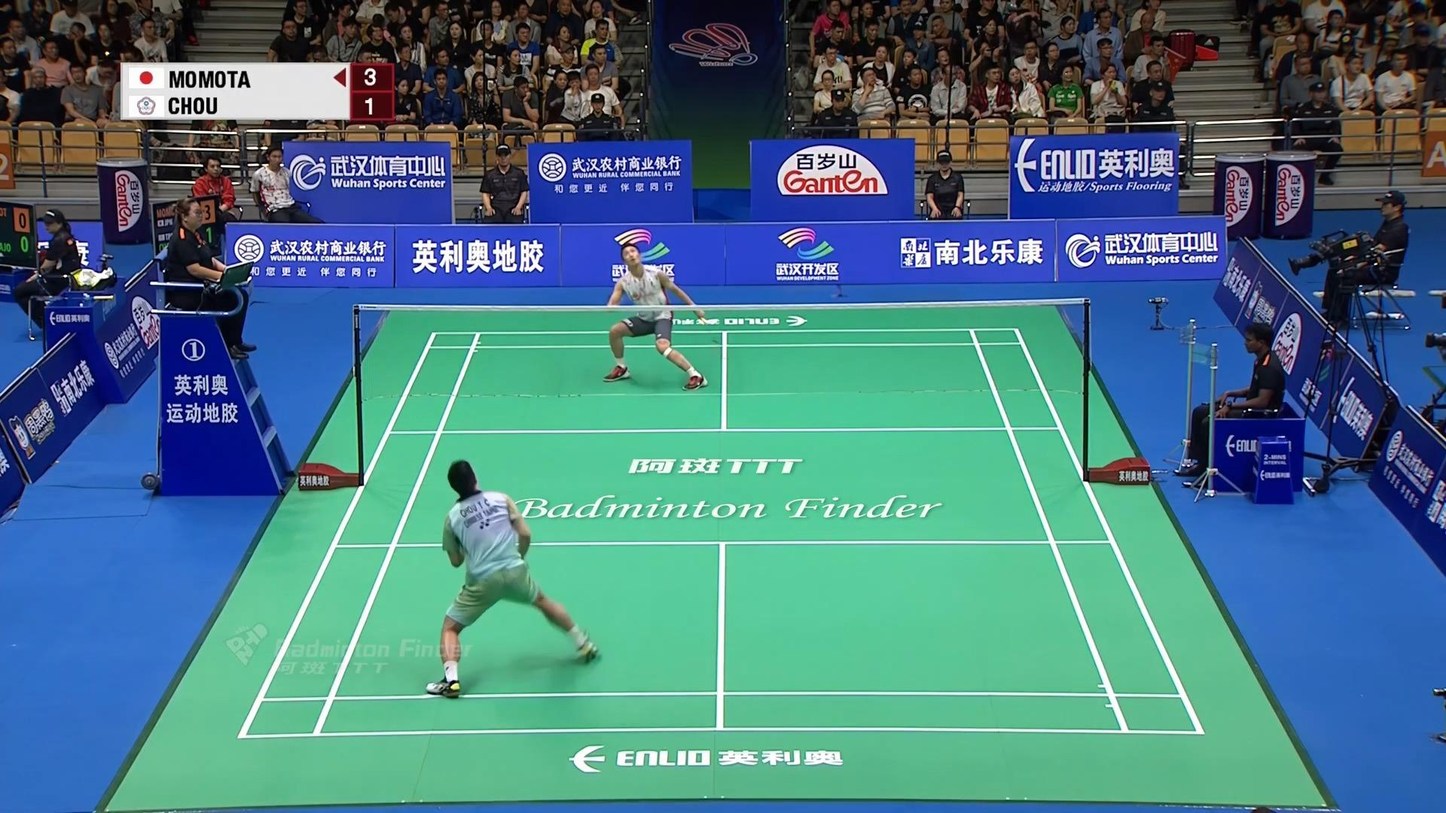player: (425, 460, 599, 699), (605, 243, 707, 391)
